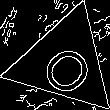O_NE: (31, 29, 99, 96)
